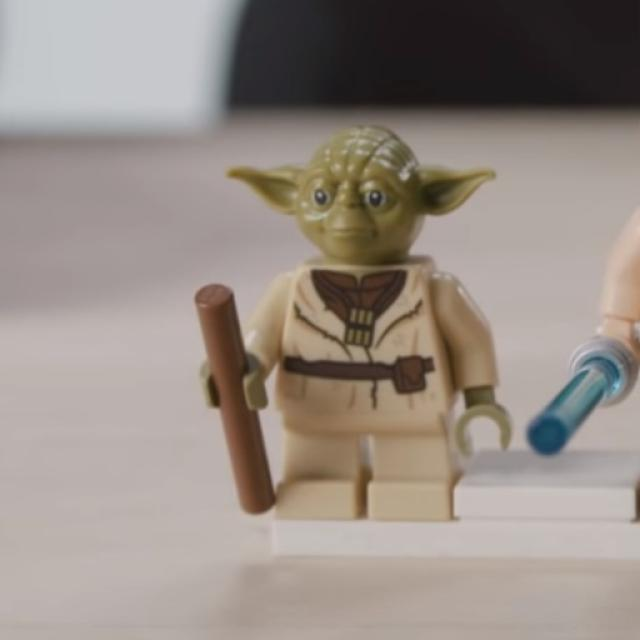Lego-Minifigures: (169, 103, 528, 547)
